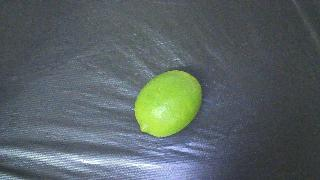LOCAL: (134, 70, 202, 137)
